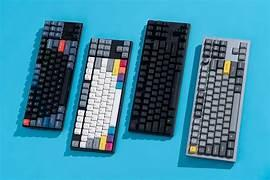keyboard: (185, 36, 251, 162), (70, 36, 133, 153), (128, 19, 190, 137), (21, 19, 83, 130)
